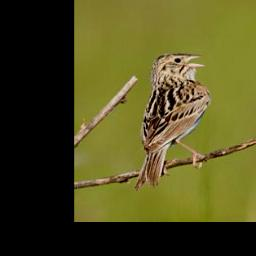Sparrow: (133, 51, 213, 192)
